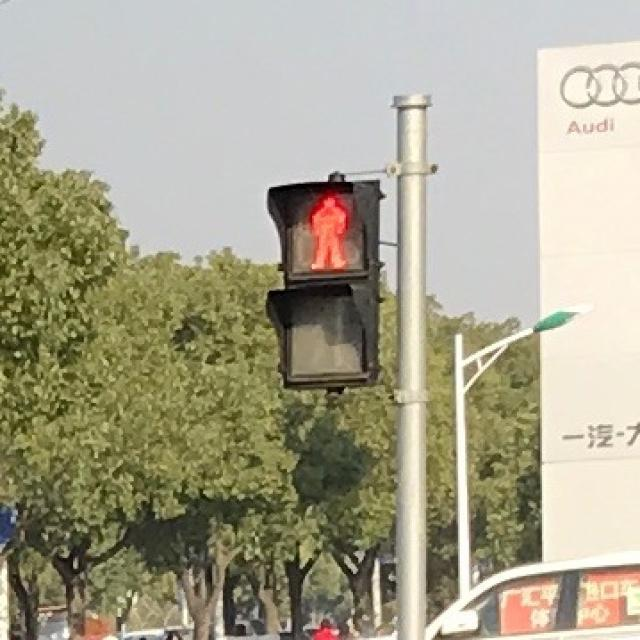red-crossing: (284, 180, 368, 278)
